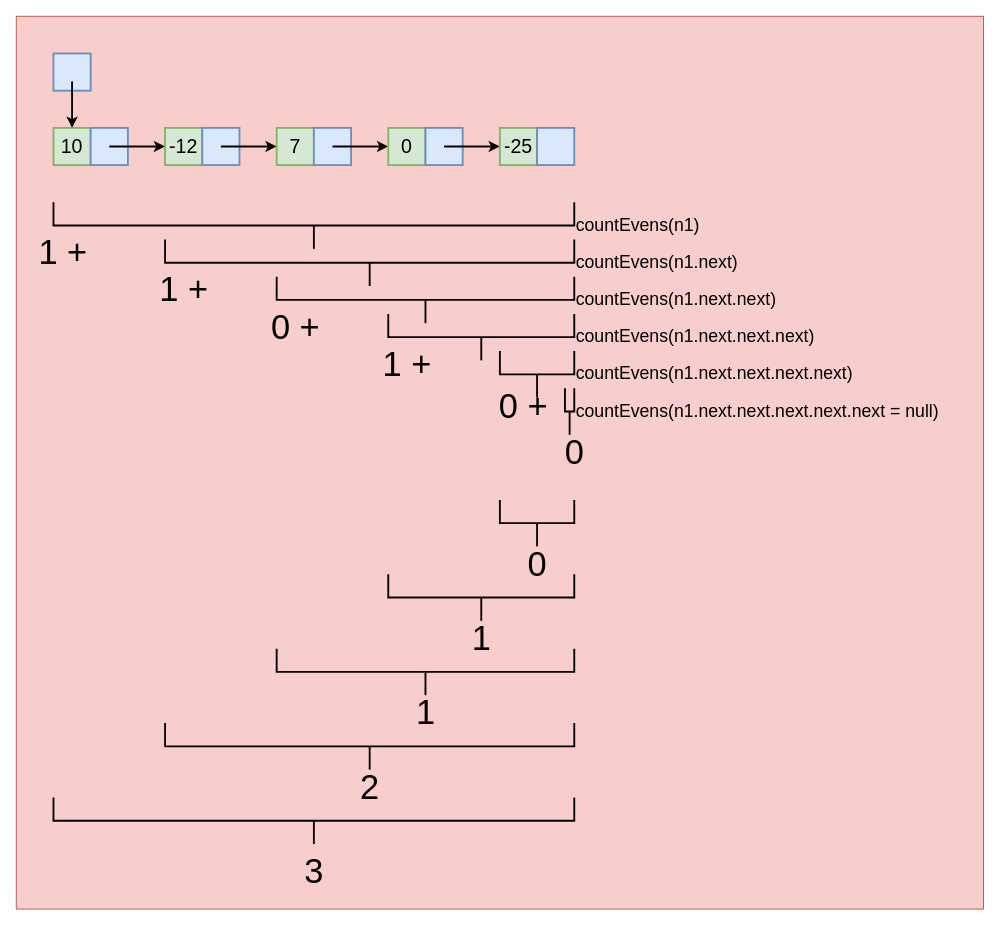
Some shapes in this 1000 by 925 pixel diagram are drawn without their labels. The centre of each missing label's shape, as x and y in pixels:
"n1" goes at [71,71].
"null" goes at [555,146].
